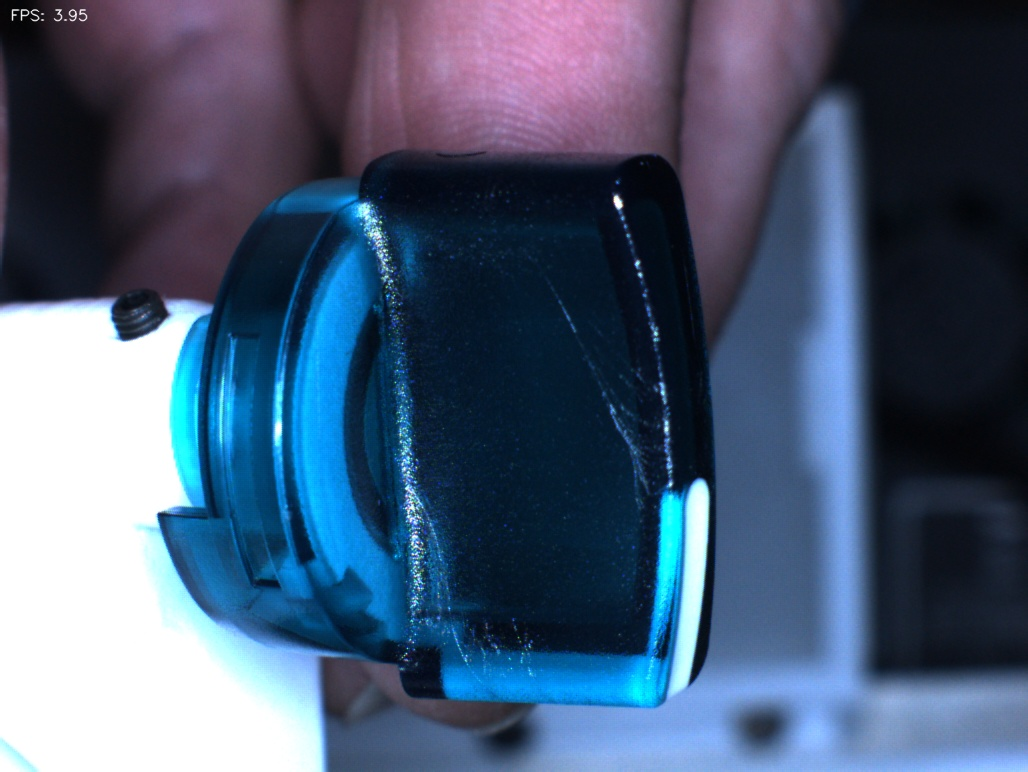Givrage: (454, 595, 541, 688)
